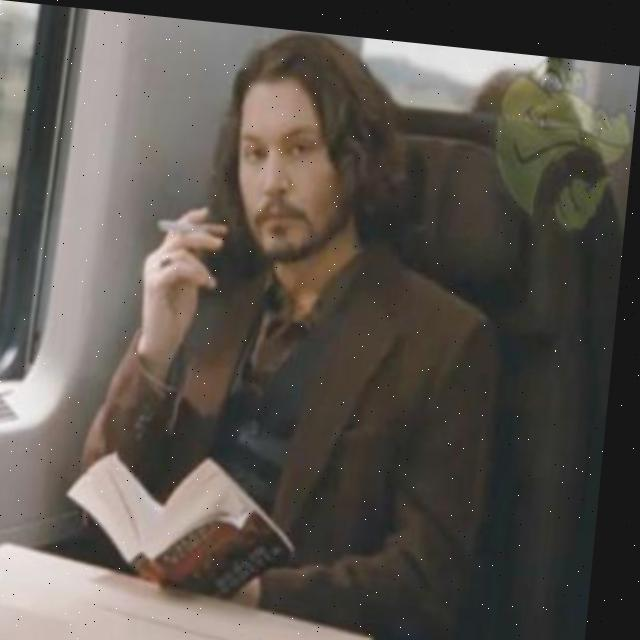cigarette: (159, 213, 235, 237)
